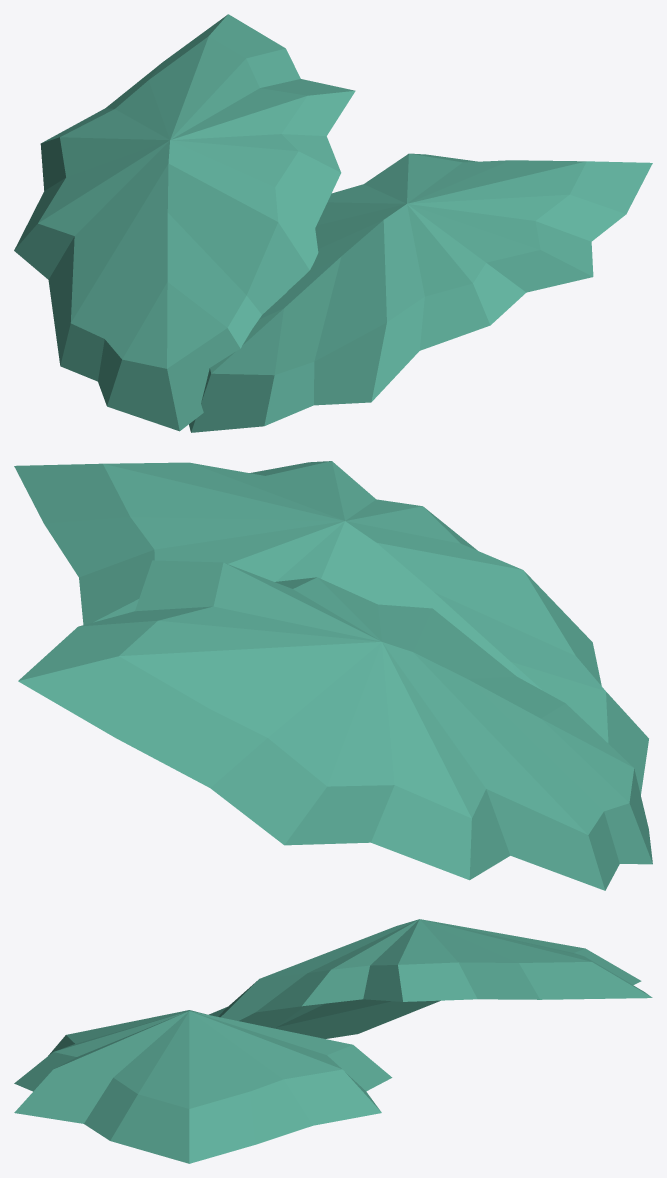
File: mint.fbx
3 views of the same model, one above another, from view 1: azimuth 30°, elevation 25°; view 2: azimuth 150°, elevation 25°; view 3: azimuth 270°, elevation 25° (orthographic). The views are drawn at different scales.
Parts seen in each view (by area): view 1: pCylinder20; view 2: pCylinder20; view 3: pCylinder20.
Boxes of the visible parts, <box> form: pCylinder20: <box>14,14,652,432</box>; pCylinder20: <box>14,461,652,890</box>; pCylinder20: <box>14,919,652,1163</box>.
Size of the model in its own units: 0.0252 by 0.0101 by 0.0246.
